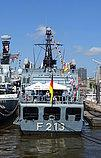MIL_Ship: (16, 18, 88, 134), (0, 26, 21, 127)
